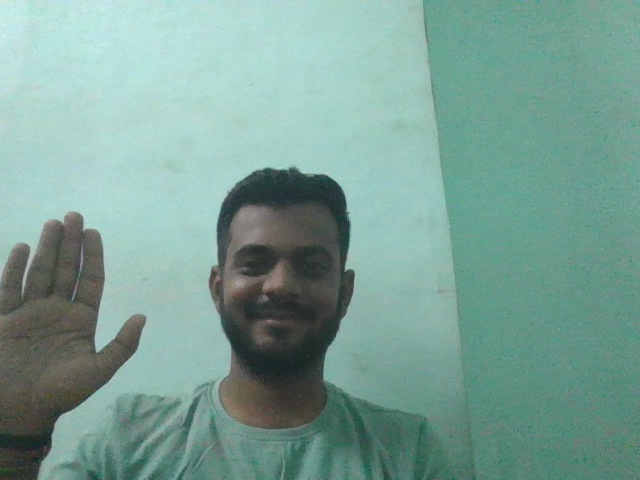hello: (1, 201, 170, 422)
